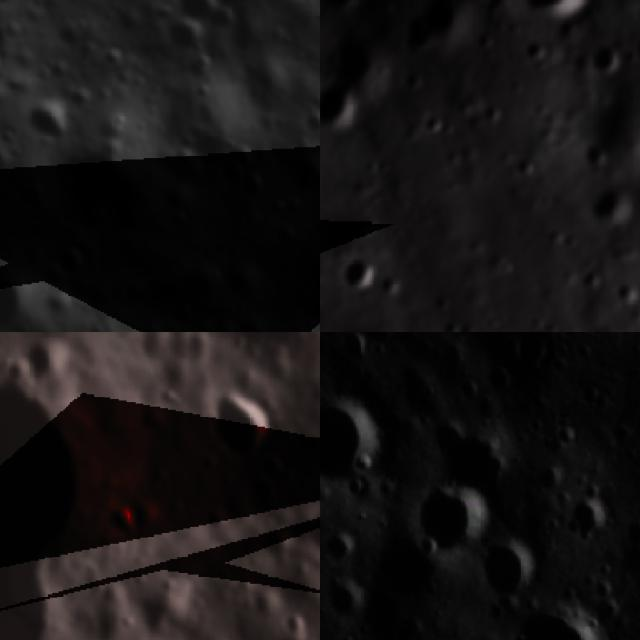crater: (0, 378, 104, 624), (45, 115, 186, 255), (320, 384, 385, 495), (199, 141, 276, 215), (416, 482, 493, 554), (213, 384, 267, 481), (374, 542, 451, 610), (482, 538, 550, 606), (507, 603, 614, 640), (328, 28, 394, 86), (13, 332, 68, 399), (170, 0, 249, 44), (17, 91, 75, 150), (408, 0, 477, 48), (333, 249, 388, 300), (568, 492, 616, 544), (519, 0, 596, 31), (321, 575, 365, 629), (510, 332, 559, 380), (590, 183, 637, 229), (110, 494, 155, 536), (320, 79, 353, 136), (479, 357, 520, 402), (323, 533, 358, 571), (302, 502, 320, 574), (331, 332, 368, 366), (136, 404, 169, 438), (596, 33, 620, 79), (255, 455, 292, 483), (127, 568, 153, 606), (250, 626, 303, 640), (625, 509, 640, 554), (359, 332, 396, 342)
